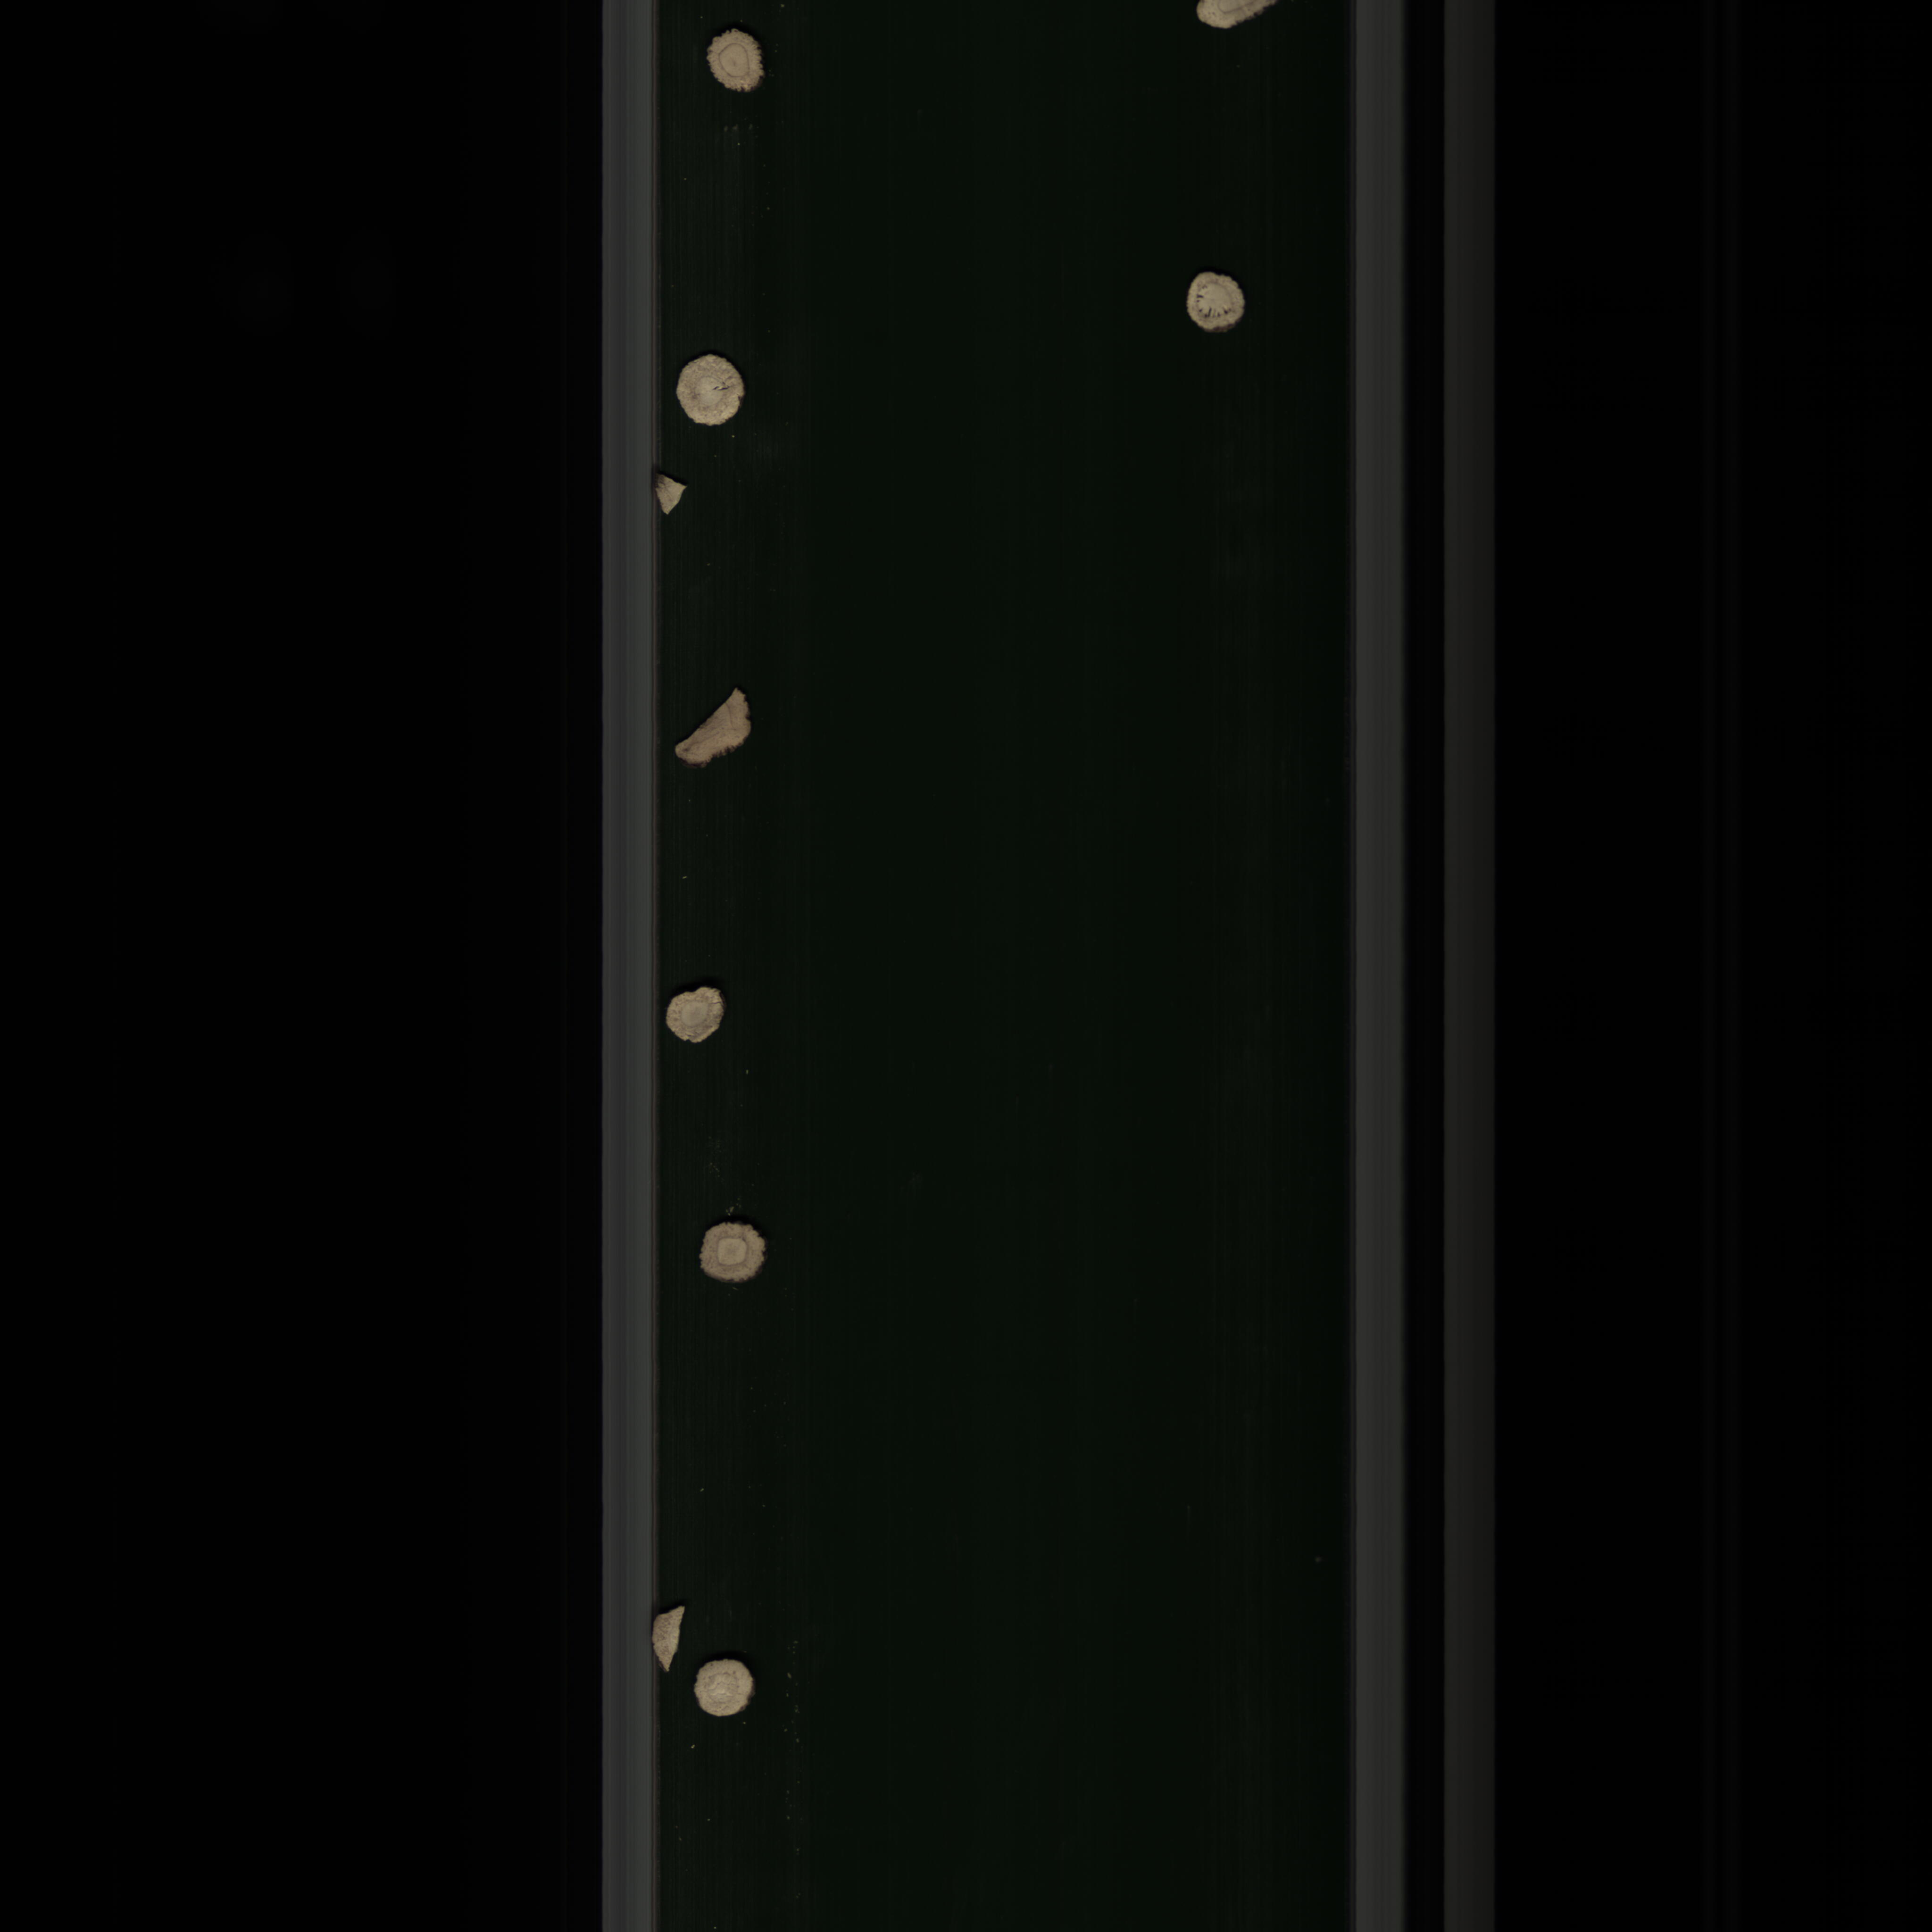debris: (669, 674, 764, 771), (649, 1594, 686, 1677), (648, 465, 686, 517)
hole: (1184, 269, 1256, 338)
